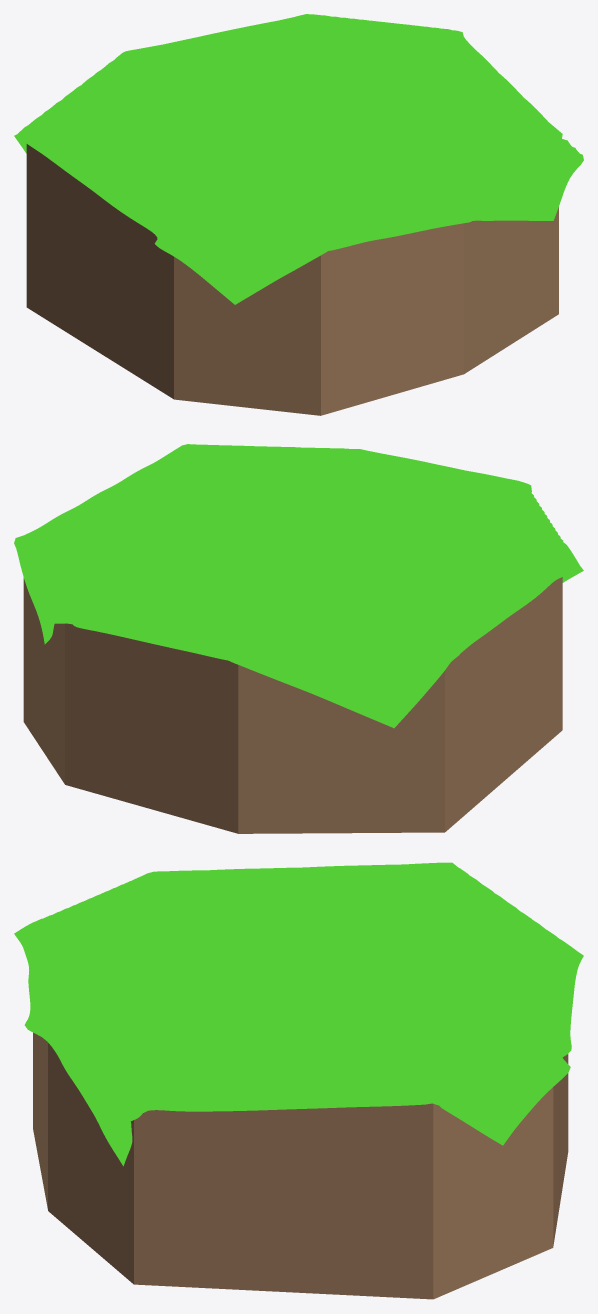
The model's file is FlatBloc01.fbx.
3 renders of one model, top to bottom at view 1: azimuth 30°, elevation 25°; view 2: azimuth 150°, elevation 25°; view 3: azimuth 270°, elevation 25°, orthographic. The views are drawn at different scales.
Visible parts, largest first — view 1: FlatBloc01; view 2: FlatBloc01; view 3: FlatBloc01.
Part boxes in pixels (left/top/right/bottom): FlatBloc01: left=14, top=14, right=583, bottom=415; FlatBloc01: left=14, top=444, right=583, bottom=833; FlatBloc01: left=14, top=862, right=583, bottom=1299.
Bounding box in the file's own units: 1242 × 493 × 1232.
